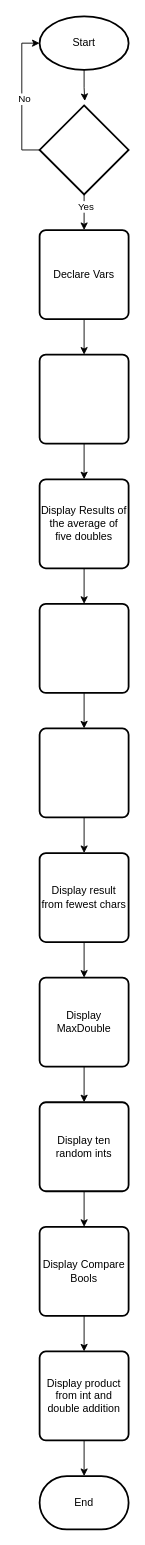
Image size: 145x1545. Some labels were removed from this diagram. The centre of each missing label's shape, as x and y in pixels:
"Call SumInts" belongs at (83,398).
"Display bool for if divisible by two" belongs at (83,772).
"Display results for random int" belongs at (83,648).
"if button pressed" belongs at (83,149).
